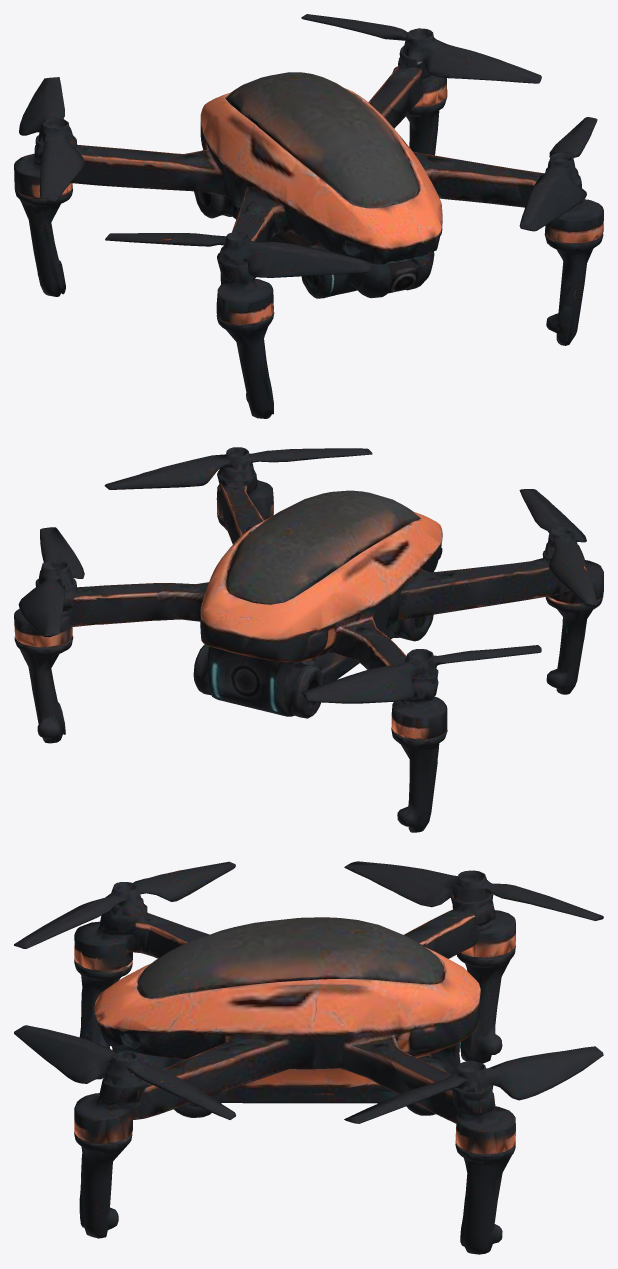
The model's file is drone2.glb.
3 views of the same model, one above another, from view 1: azimuth 30°, elevation 25°; view 2: azimuth 150°, elevation 25°; view 3: azimuth 270°, elevation 25° (orthographic). The views are drawn at different scales.
Size of the model in its own units: 1.9 by 0.7715 by 1.81.
Materials: 1 (1 with a texture image).
